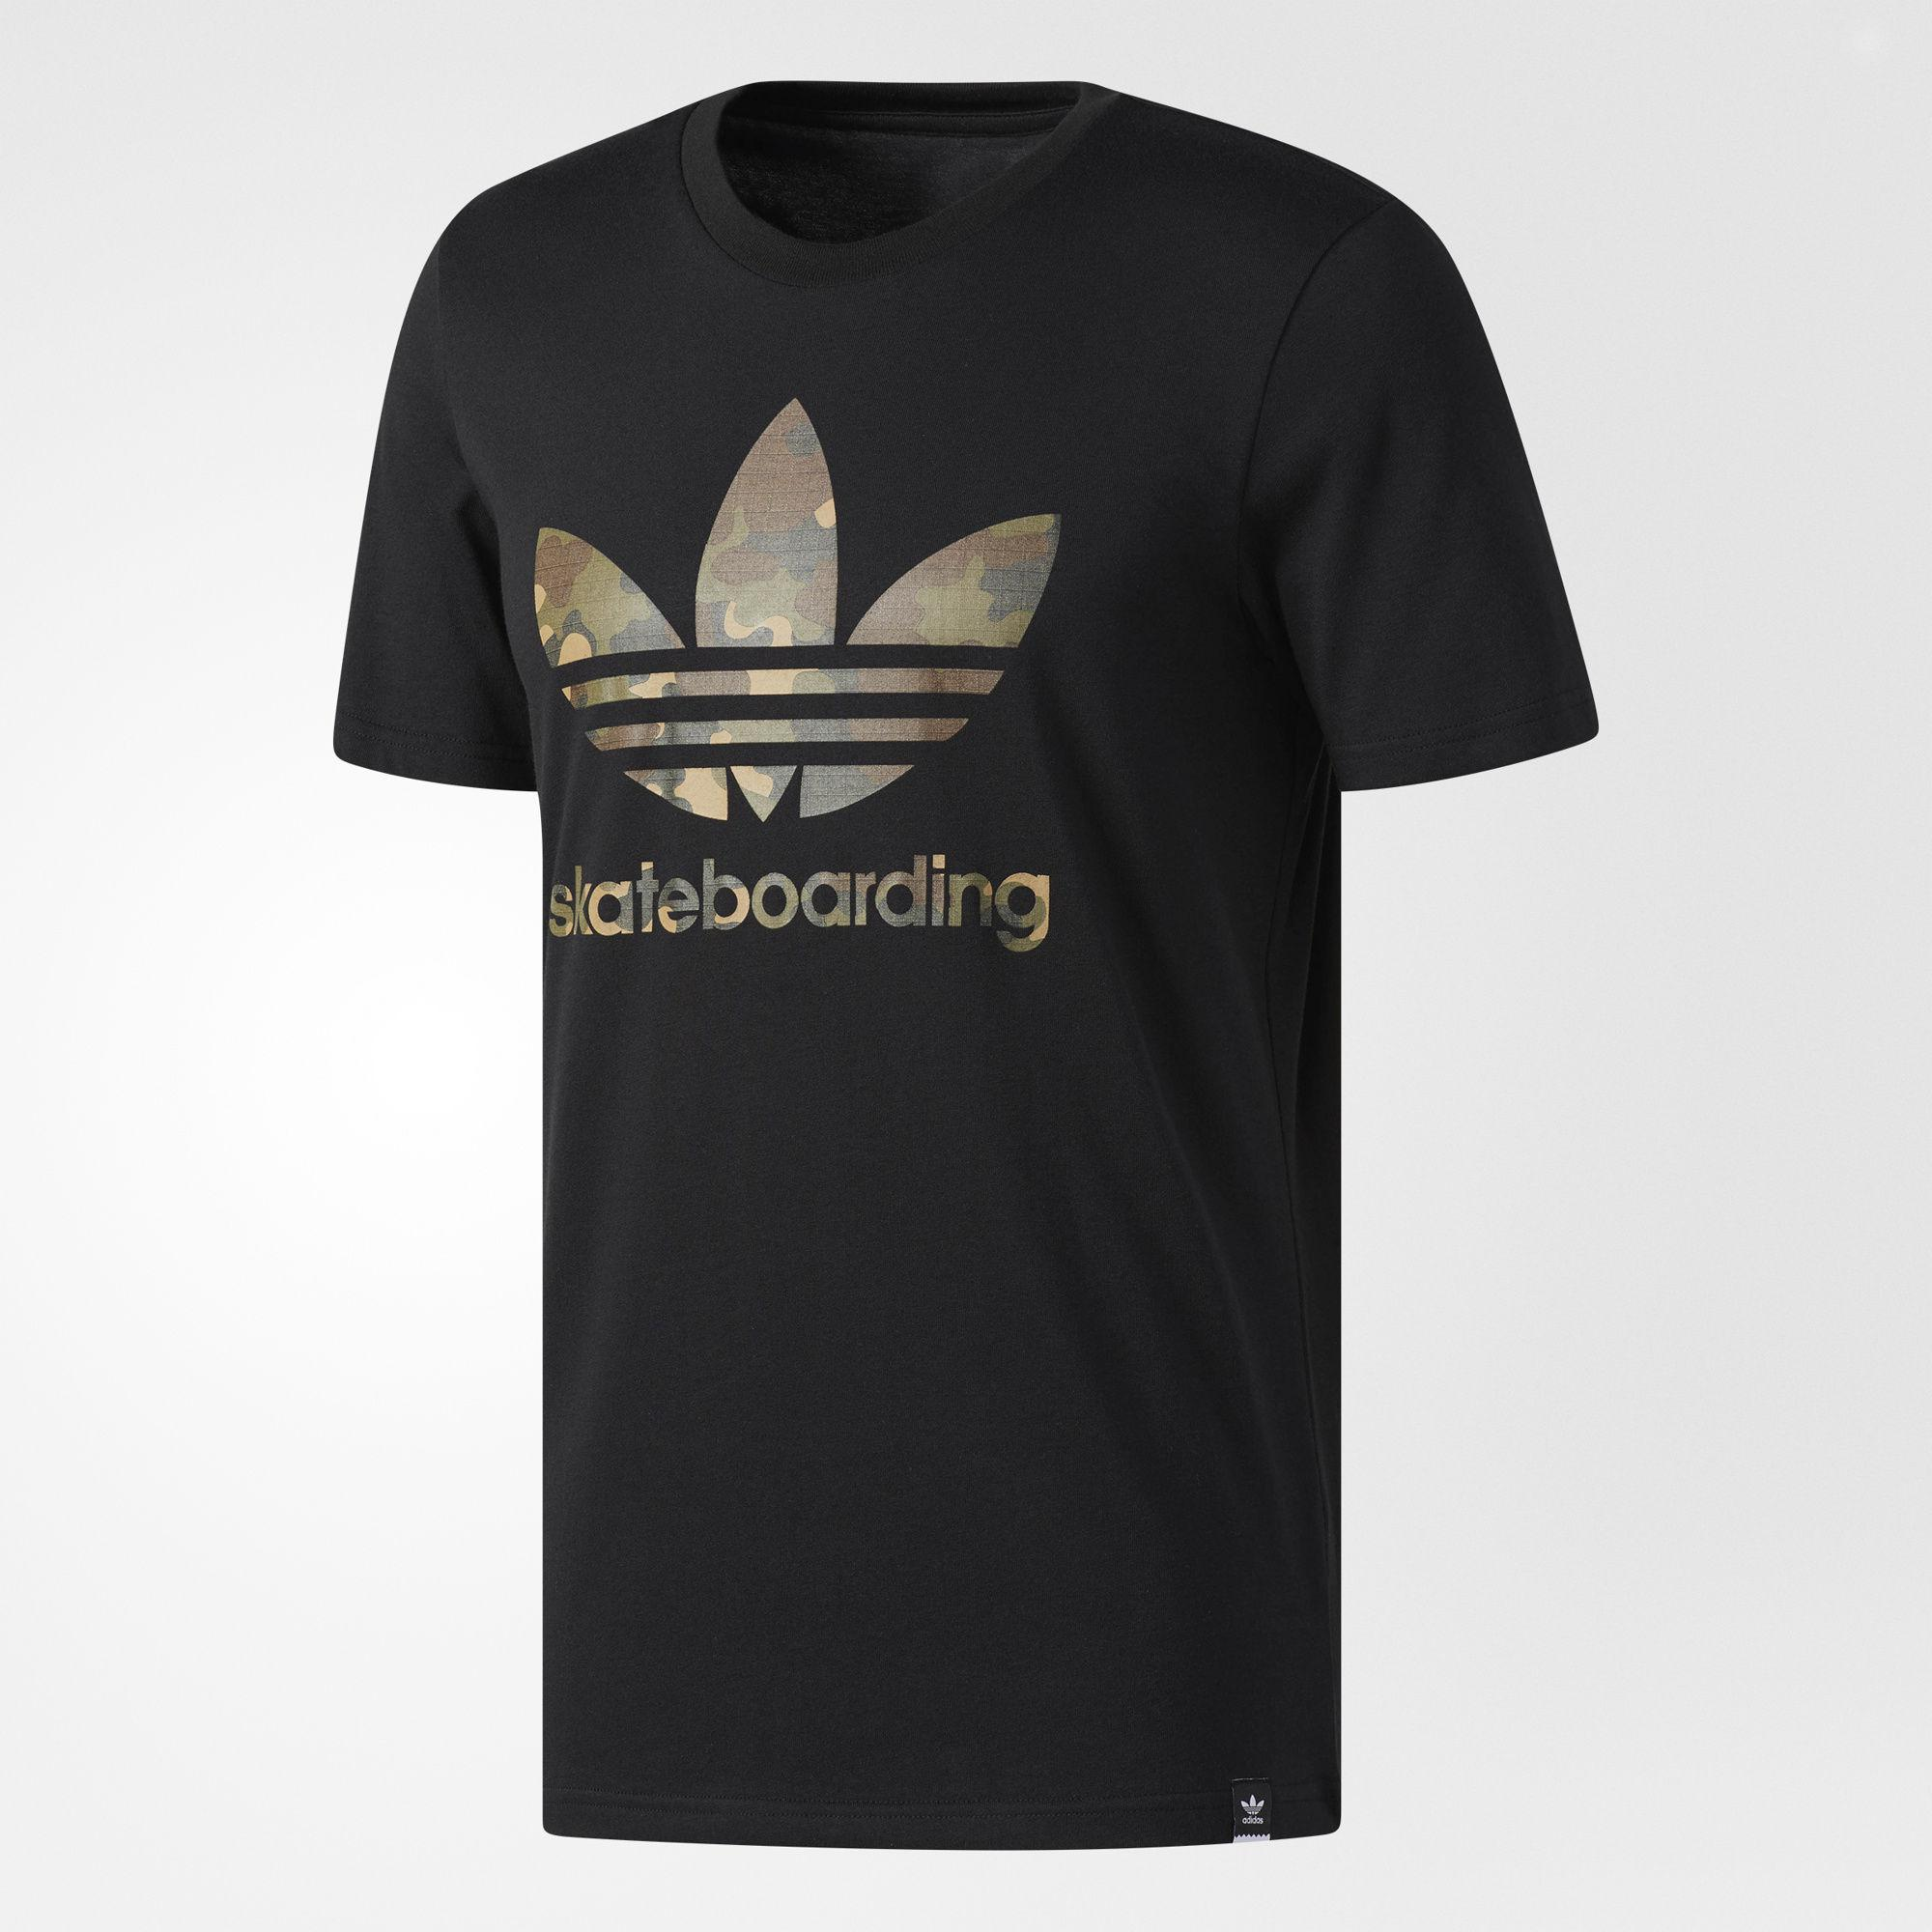teeshirt: (244, 25, 1713, 1932)
